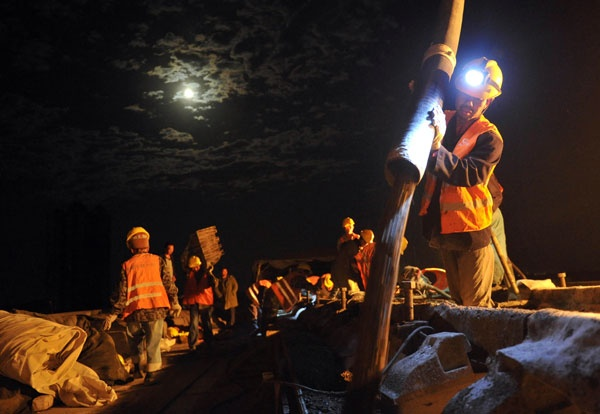none: (163, 240, 174, 255), (220, 265, 229, 277)
yellow: (452, 57, 505, 121), (125, 226, 151, 253), (358, 227, 374, 247), (187, 255, 202, 272), (342, 215, 355, 234), (297, 261, 312, 277)
